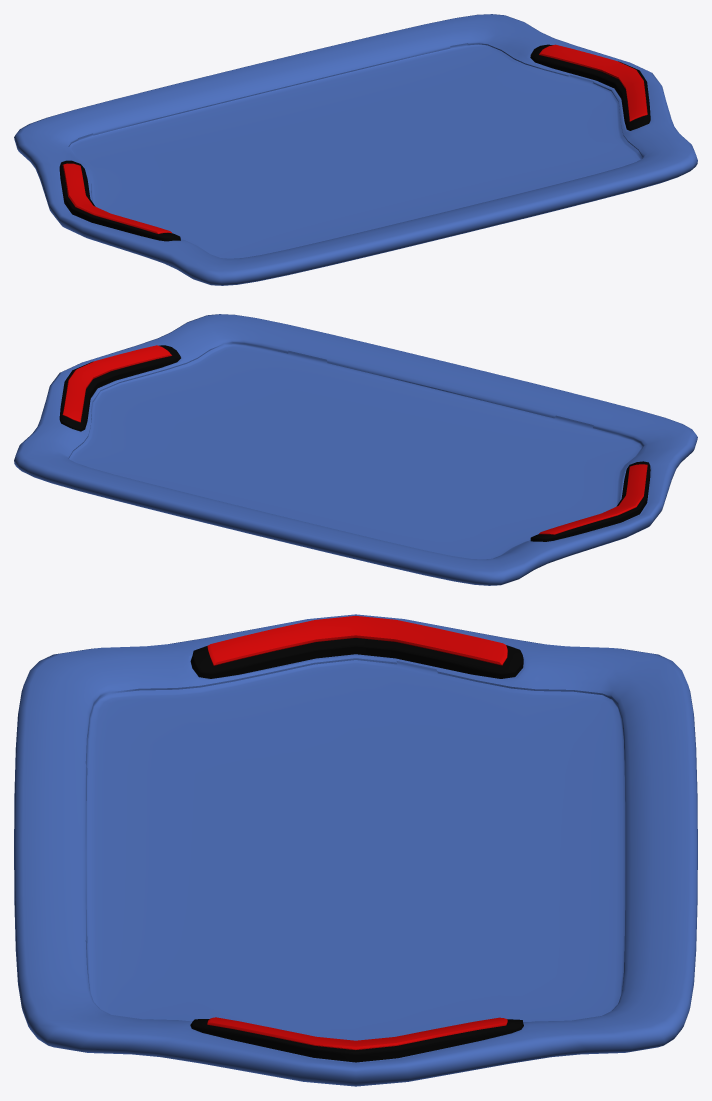
The model's file is FbxTray.fbx.
The picture shows the model from 3 angles, top to bottom: view 1: azimuth 30°, elevation 25°; view 2: azimuth 150°, elevation 25°; view 3: azimuth 270°, elevation 25°; orthographic projection. The views are drawn at different scales.
Visible parts, largest first — view 1: tray; view 2: tray; view 3: tray.
Part boxes in pixels (<box>): tray: <box>14,14,697,285</box>; tray: <box>14,314,697,585</box>; tray: <box>14,614,697,1086</box>.
Size of the model in its own units: 67.23 by 2.31 by 42.49.
